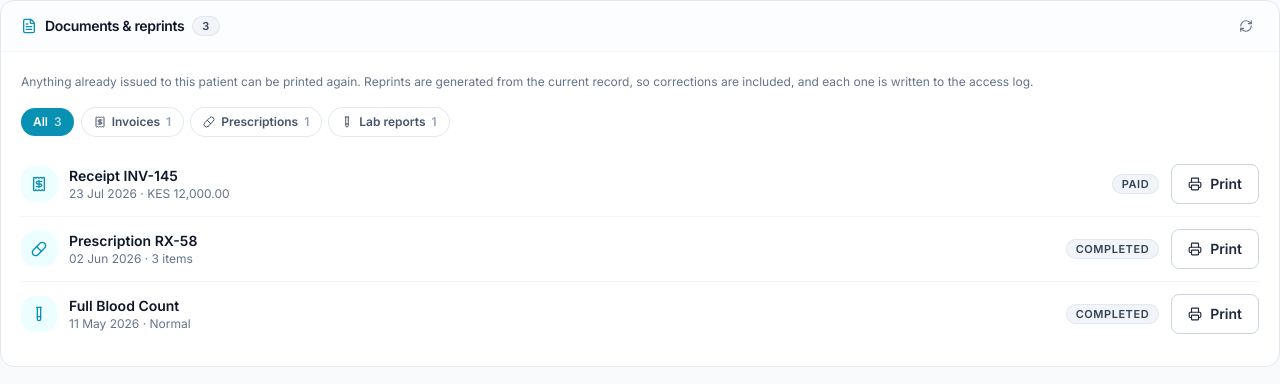
Test: filtering › narrows the list to the chosen kind
Expected: the text "Receipt INV-145" is shown, [69,166,178,184]
Click the button "Invoices 1" at (132, 122), box [82,108,183,136]
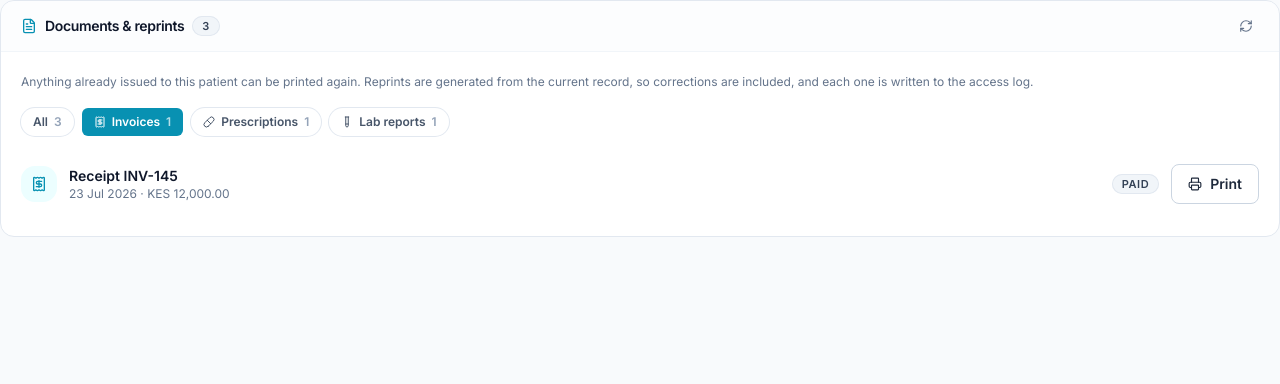
Expected: the text "Receipt INV-145" is shown, [69,166,178,184]
Expected: the text "Prescription RX-58" is gone
